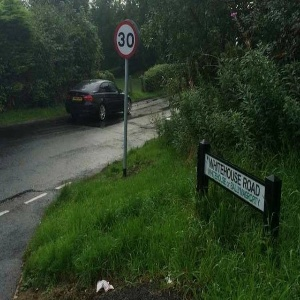30 speed: (114, 19, 139, 60)
